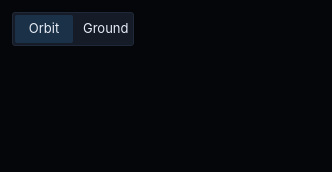
Test case: form primitives › SegmentedControl reports the selected option and responds to click and keyboard
Click the button "Ground" at (102, 29), box top-left (73, 15), bottom-right (131, 42)
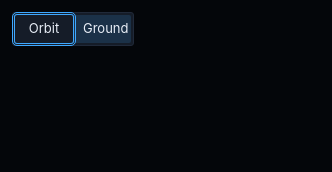
expect the button "Ground" is pressed: met, box top-left (73, 15), bottom-right (131, 42)
expect the button "Orbit" is not pressed: met, box top-left (15, 15), bottom-right (73, 42)
Press Enter
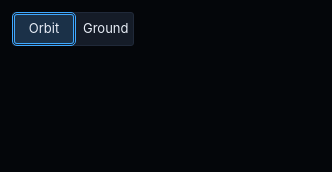
expect the button "Orbit" is pressed: met, box top-left (15, 15), bottom-right (73, 42)
